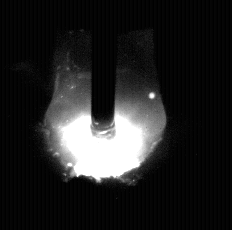arame: (91, 0, 117, 139)
poca: (44, 0, 167, 230)
